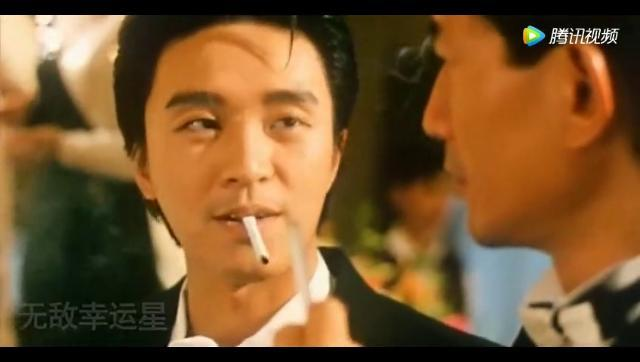SafeDriving: (258, 92, 320, 144), (167, 99, 232, 144)
Smoking: (238, 213, 272, 267)
